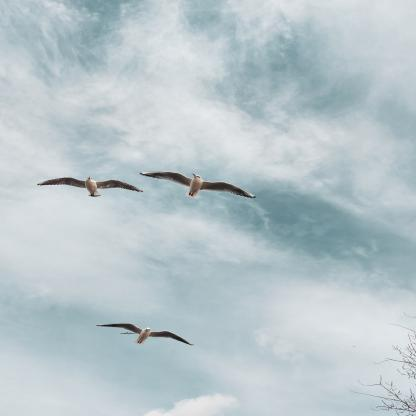bird: (140, 172, 257, 200), (37, 176, 144, 197), (96, 323, 194, 345), (120, 332, 136, 335), (172, 352, 175, 352)
